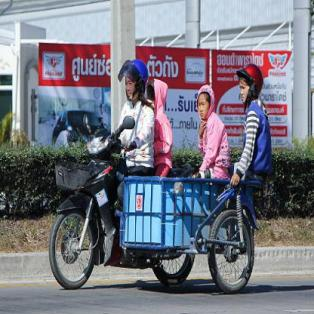Motocicleta: (38, 116, 124, 295)
